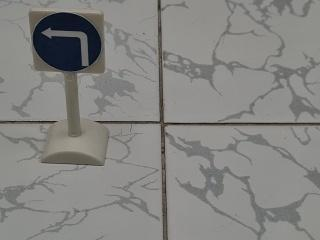left: (26, 6, 108, 76)
